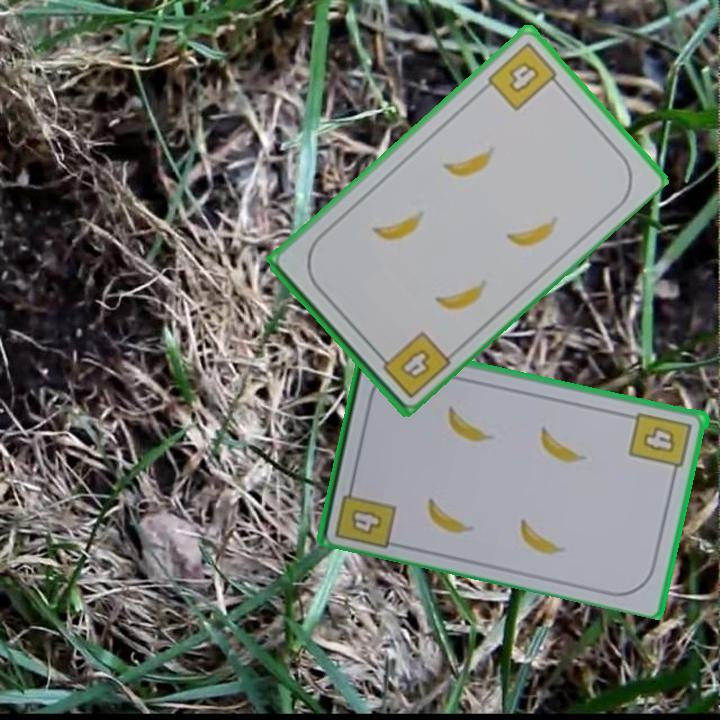4b: (483, 38, 565, 114), (371, 327, 453, 401), (626, 408, 696, 480), (347, 505, 386, 538)
